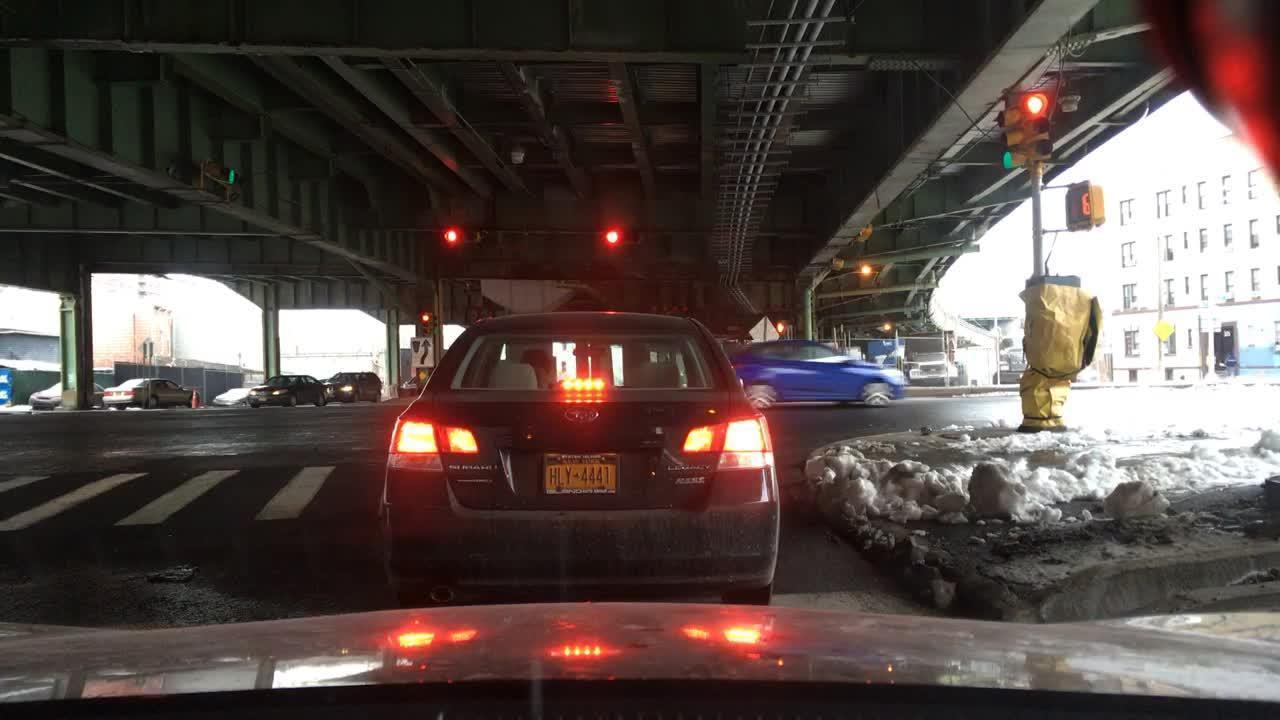subaru: (559, 404, 605, 429)
